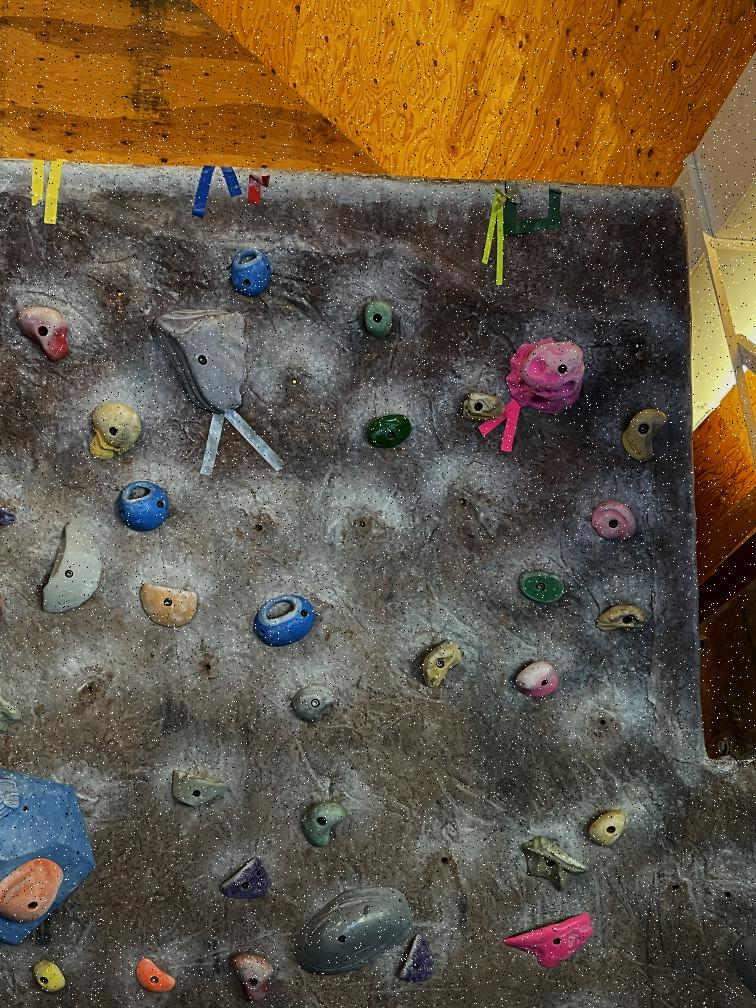Crimp: (39, 522, 104, 617), (136, 576, 202, 630), (221, 860, 274, 900), (404, 936, 432, 985)
Edges: (291, 884, 427, 986)
Hand-holds: (519, 834, 589, 892)
Jug: (505, 337, 592, 416), (502, 913, 594, 969), (12, 300, 77, 368), (586, 495, 651, 548), (86, 404, 146, 461), (588, 599, 666, 638), (623, 406, 672, 468), (418, 634, 464, 692), (296, 799, 354, 844), (360, 411, 413, 455), (582, 804, 630, 852), (232, 950, 273, 1006), (511, 658, 561, 700), (362, 300, 401, 345), (27, 960, 72, 996)
Pinch: (0, 862, 68, 916), (166, 765, 233, 817), (512, 566, 569, 610), (127, 959, 182, 994), (463, 390, 507, 424)
Pocket: (251, 590, 317, 646), (116, 476, 172, 534), (229, 246, 279, 305)
Sloper: (153, 305, 249, 413), (290, 684, 338, 725)
